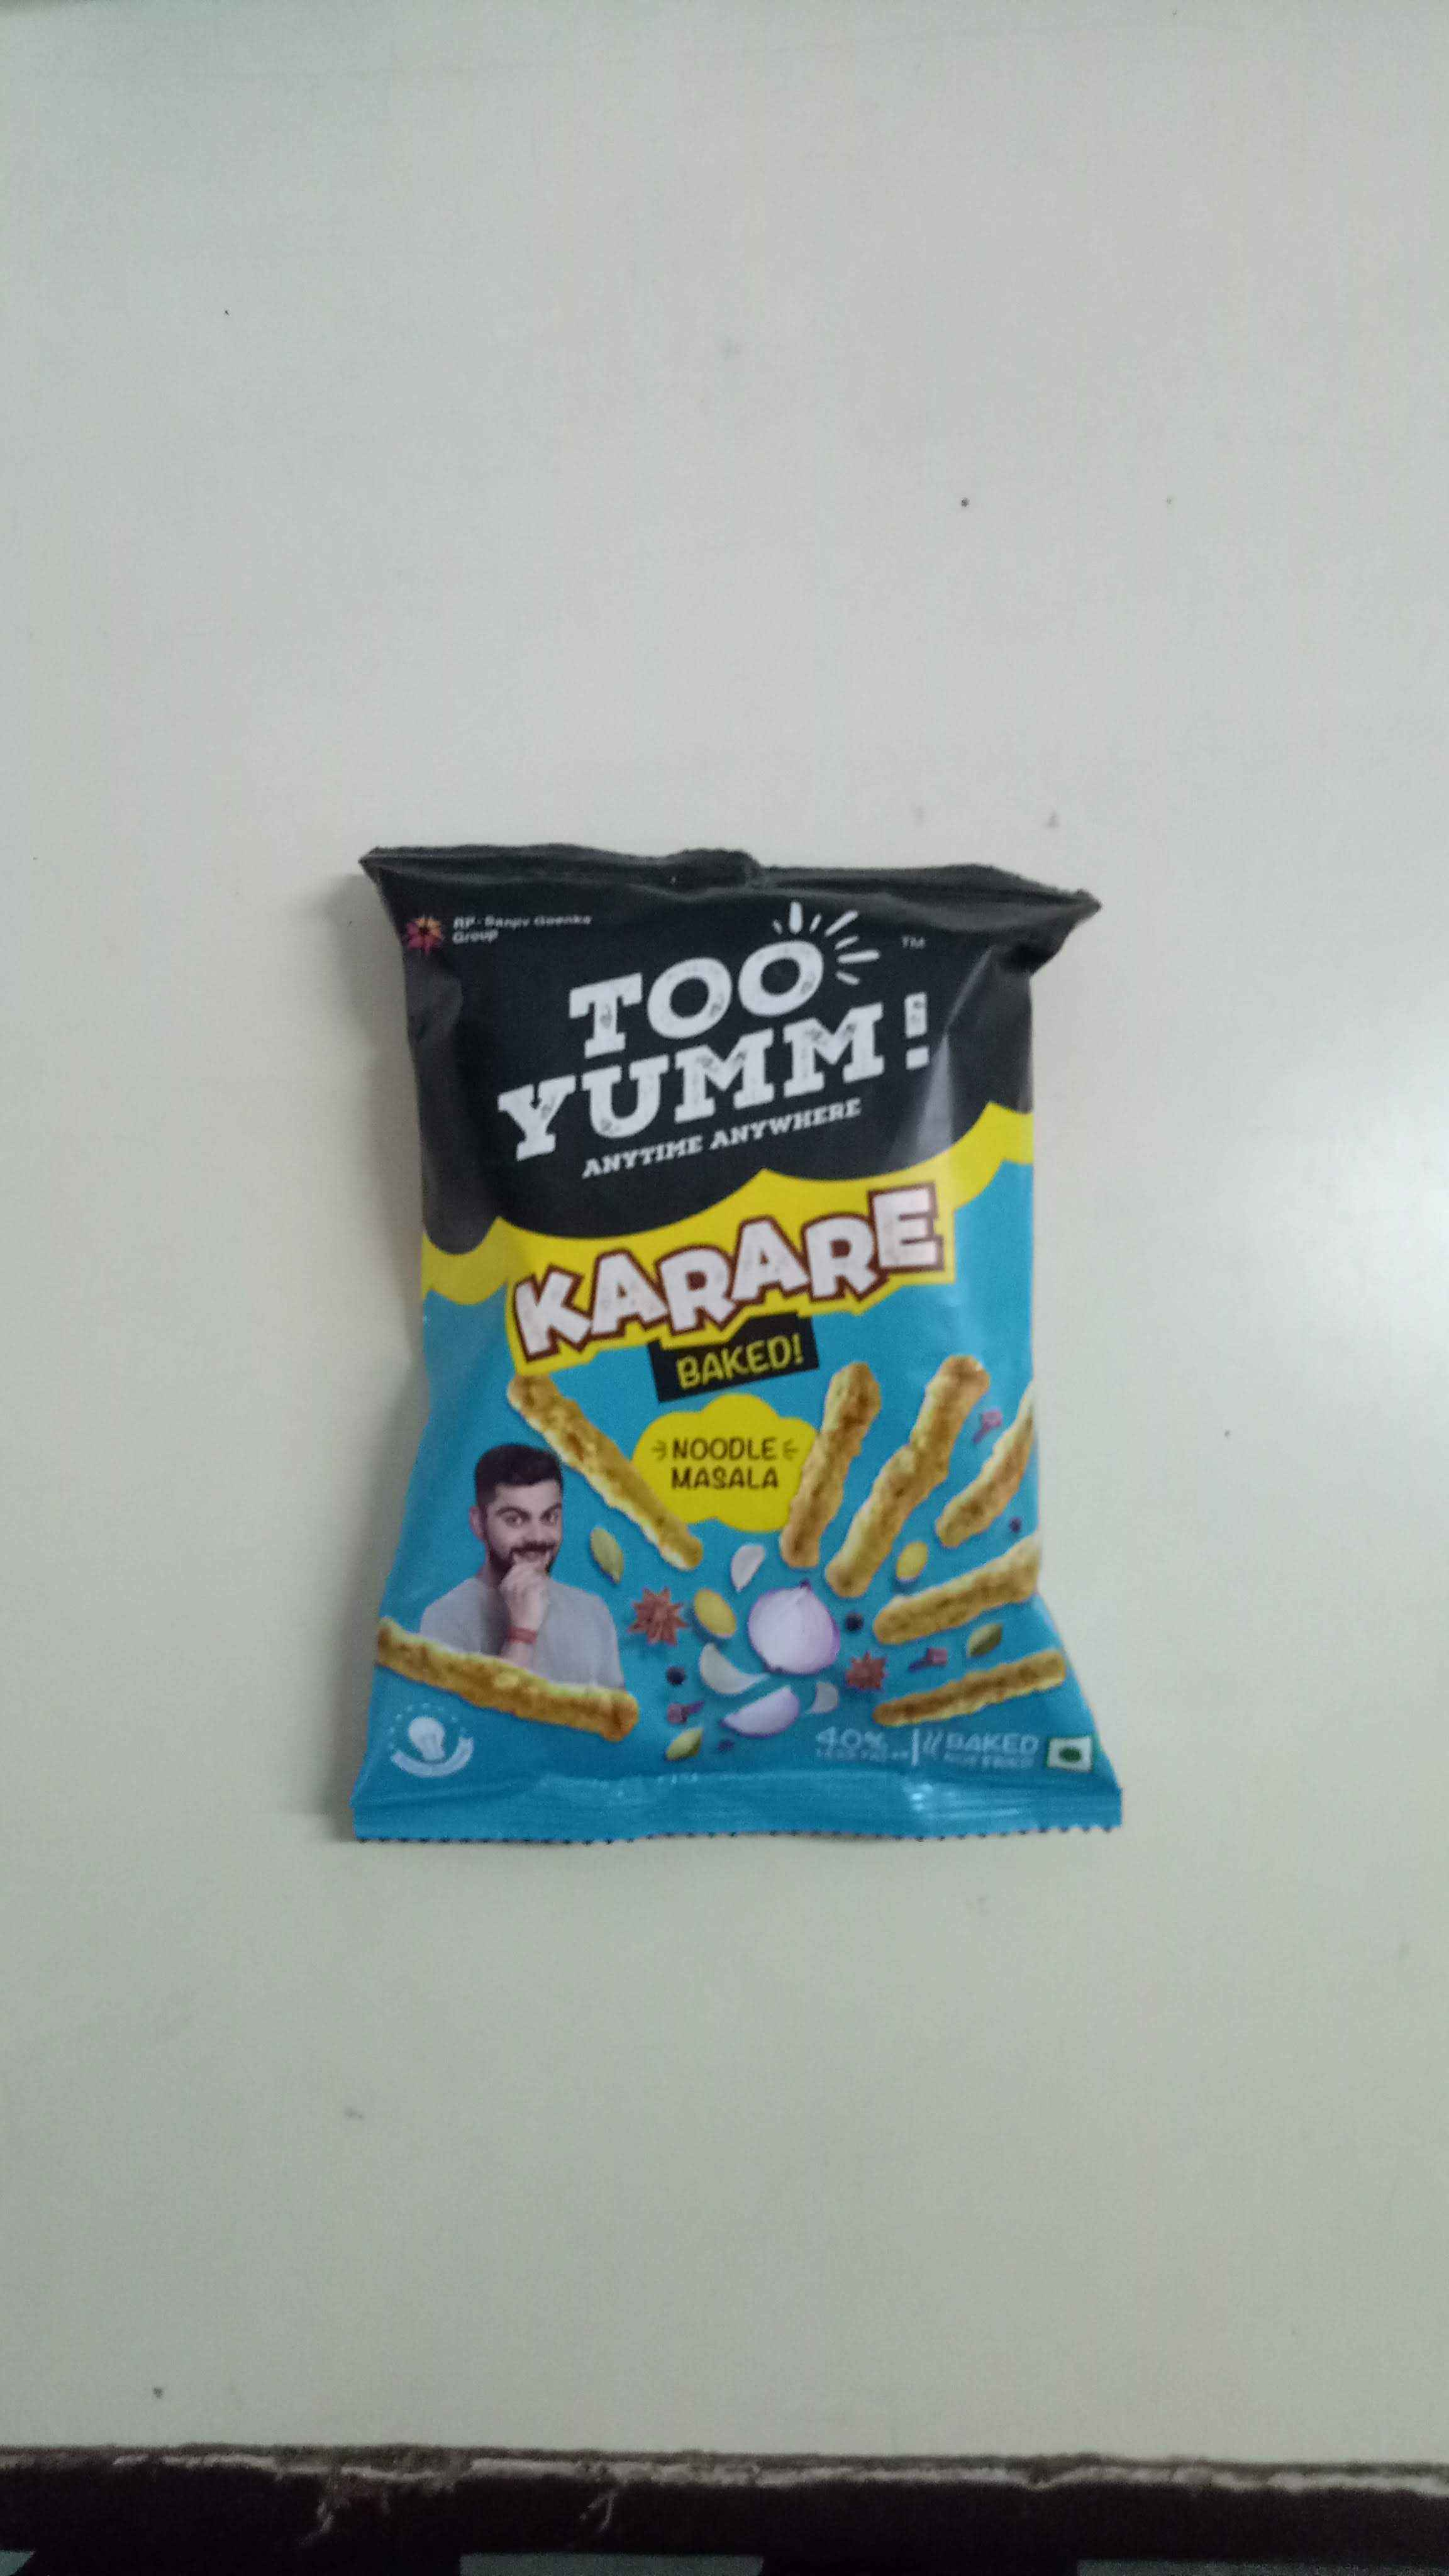tooyumm: (495, 916, 939, 1215)
